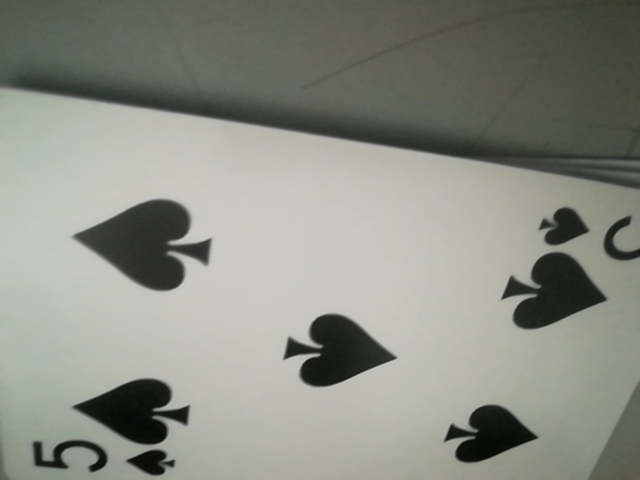ht 5: (20, 437, 191, 480)
